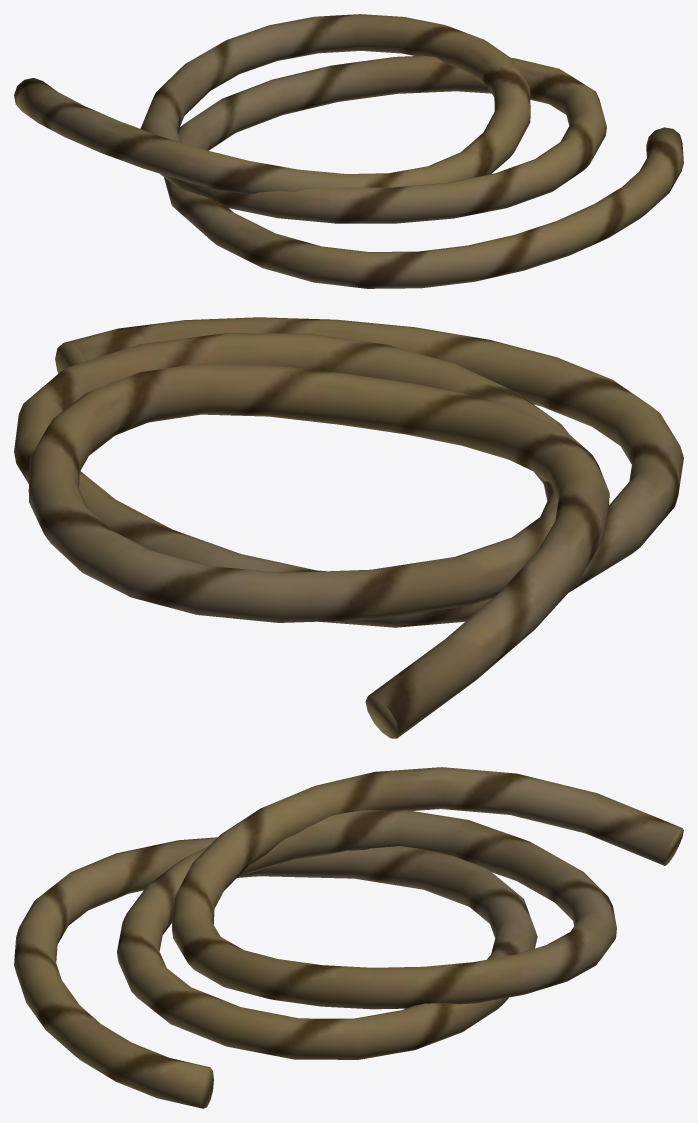
File: Rope 2.glb
3 renders of one model, top to bottom at view 1: azimuth 30°, elevation 25°; view 2: azimuth 150°, elevation 25°; view 3: azimuth 270°, elevation 25°, orthographic. The views are drawn at different scales.
Parts seen in each view (by area): view 1: Rope_2; view 2: Rope_2; view 3: Rope_2.
Boxes of the visible parts, box(x1,y1,x2,y2) form: Rope_2: box(14, 14, 683, 288); Rope_2: box(14, 317, 683, 738); Rope_2: box(14, 767, 683, 1108).
Bounding box in the file's own units: 0.8078 × 0.1236 × 0.845.
Materials: 1 (1 with a texture image).
